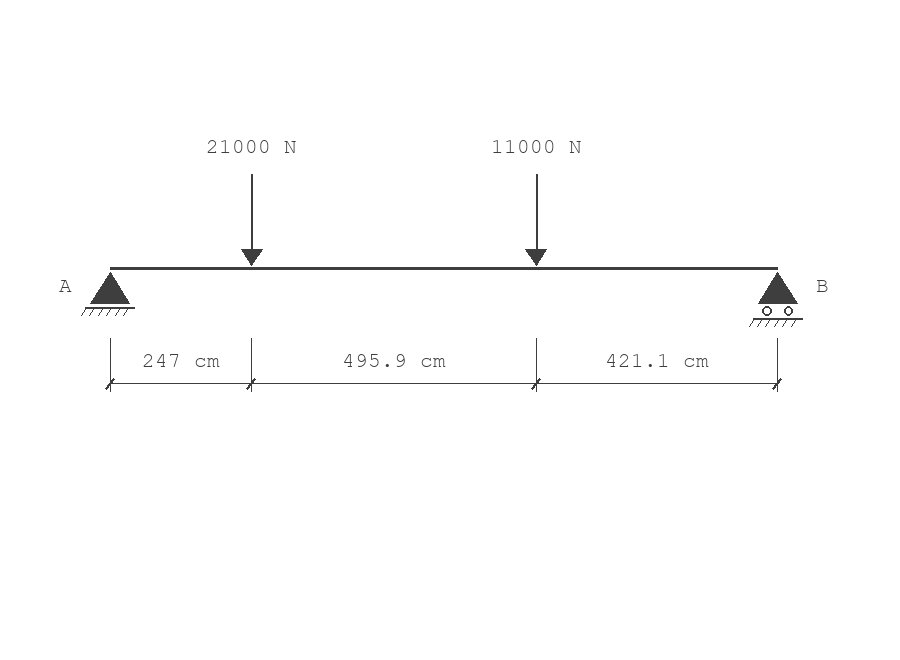pin_support: (81, 272, 135, 316)
point_load: (241, 174, 263, 266), (525, 174, 547, 266)
roller_support: (749, 272, 803, 327)
